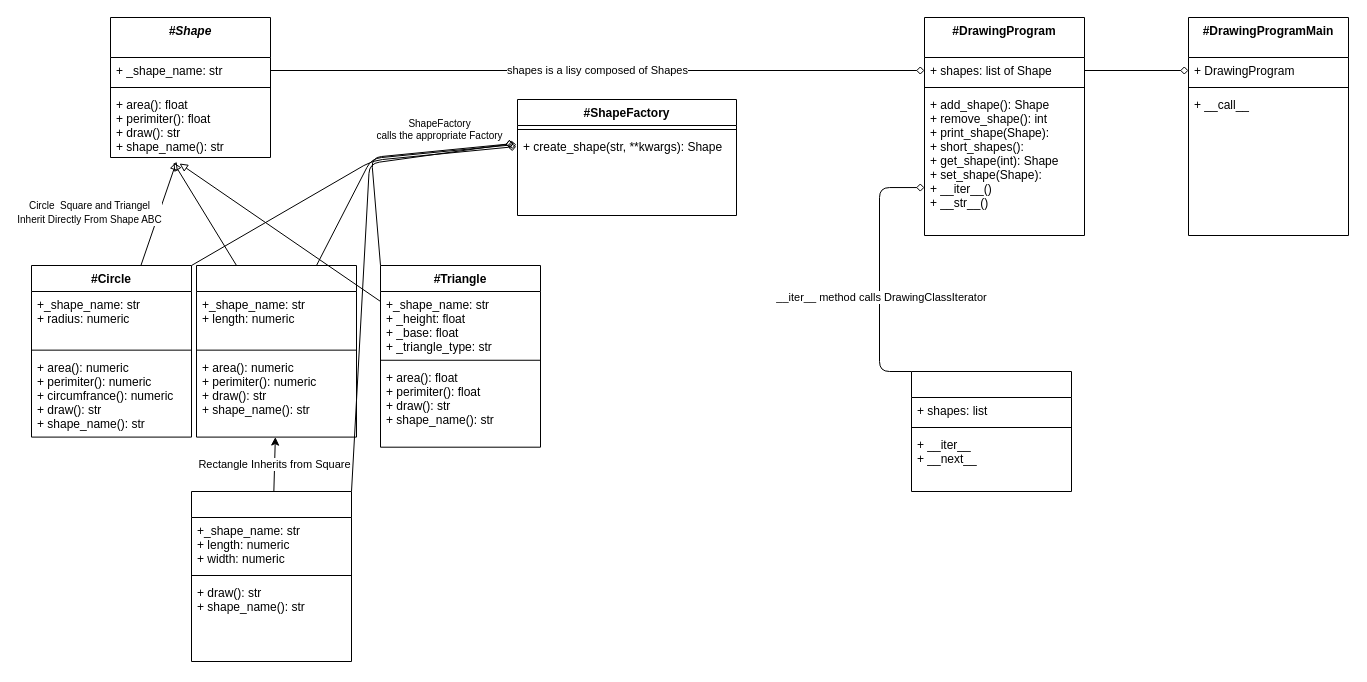
This 1367x682 diagram has some shape labels left out. The box of each missing label's shape, as (x1, y1, x2, y2) in pixels:
#DrawingClassIterator: (910, 370, 1072, 492)
#Rectangle: (190, 490, 352, 662)
#Square: (196, 264, 356, 437)
